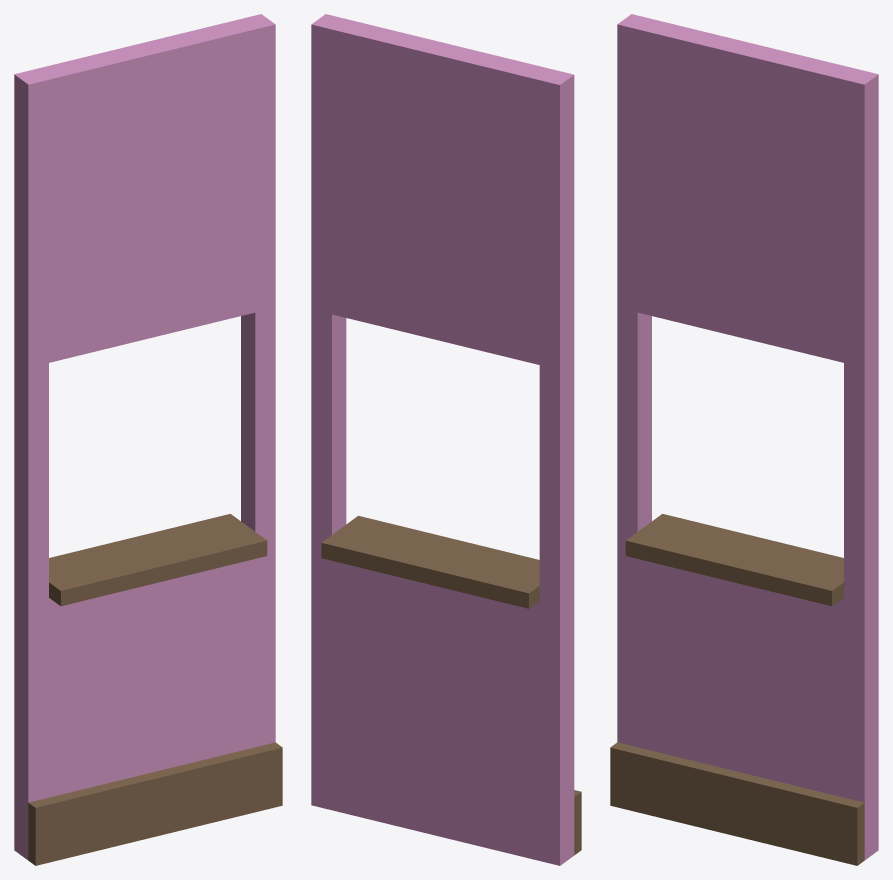
File: Mesh_WallBaseboard_G2.fbx
The picture shows the model from 3 angles, left to right: view 1: azimuth 30°, elevation 25°; view 2: azimuth 150°, elevation 25°; view 3: azimuth 330°, elevation 25°; orthographic projection.
Visible parts, largest first — view 1: Mesh_WallBaseboard_G2; view 2: Mesh_WallBaseboard_G2; view 3: Mesh_WallBaseboard_G2.
Part boxes in pixels (x1,y1,x2,y2): Mesh_WallBaseboard_G2: (14,14,282,865); Mesh_WallBaseboard_G2: (311,14,581,865); Mesh_WallBaseboard_G2: (610,14,878,865).
Size of the model in its own units: 1 by 3 by 0.2574.
